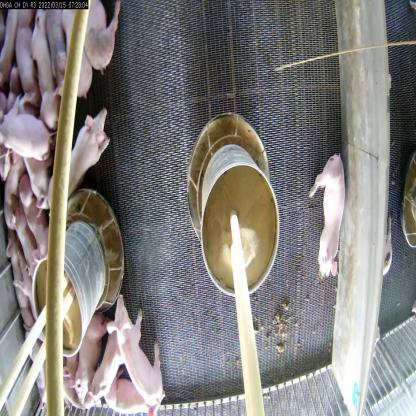Pig: (102, 287, 178, 415), (48, 112, 133, 211), (306, 152, 350, 290), (0, 90, 53, 168), (84, 323, 126, 415), (75, 0, 124, 68), (17, 170, 49, 259), (73, 316, 104, 405), (109, 373, 154, 415)
